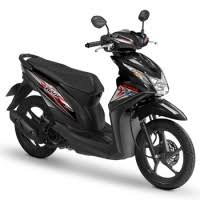motorcycle: (6, 9, 196, 192)
